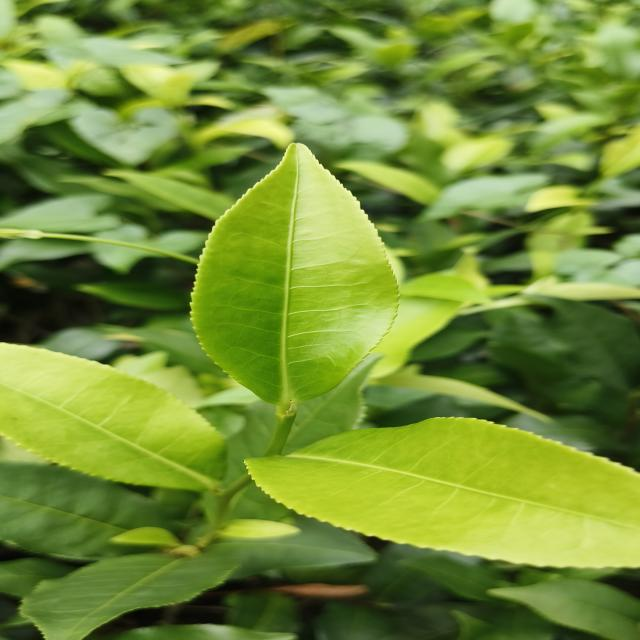Leaf: (246, 418, 640, 568), (192, 145, 397, 404), (0, 343, 226, 491), (22, 545, 236, 640), (0, 461, 173, 560), (218, 515, 374, 579), (536, 297, 640, 389), (487, 579, 640, 640), (106, 170, 235, 220), (335, 160, 439, 204), (121, 61, 218, 107), (196, 118, 294, 148), (442, 136, 513, 171)
